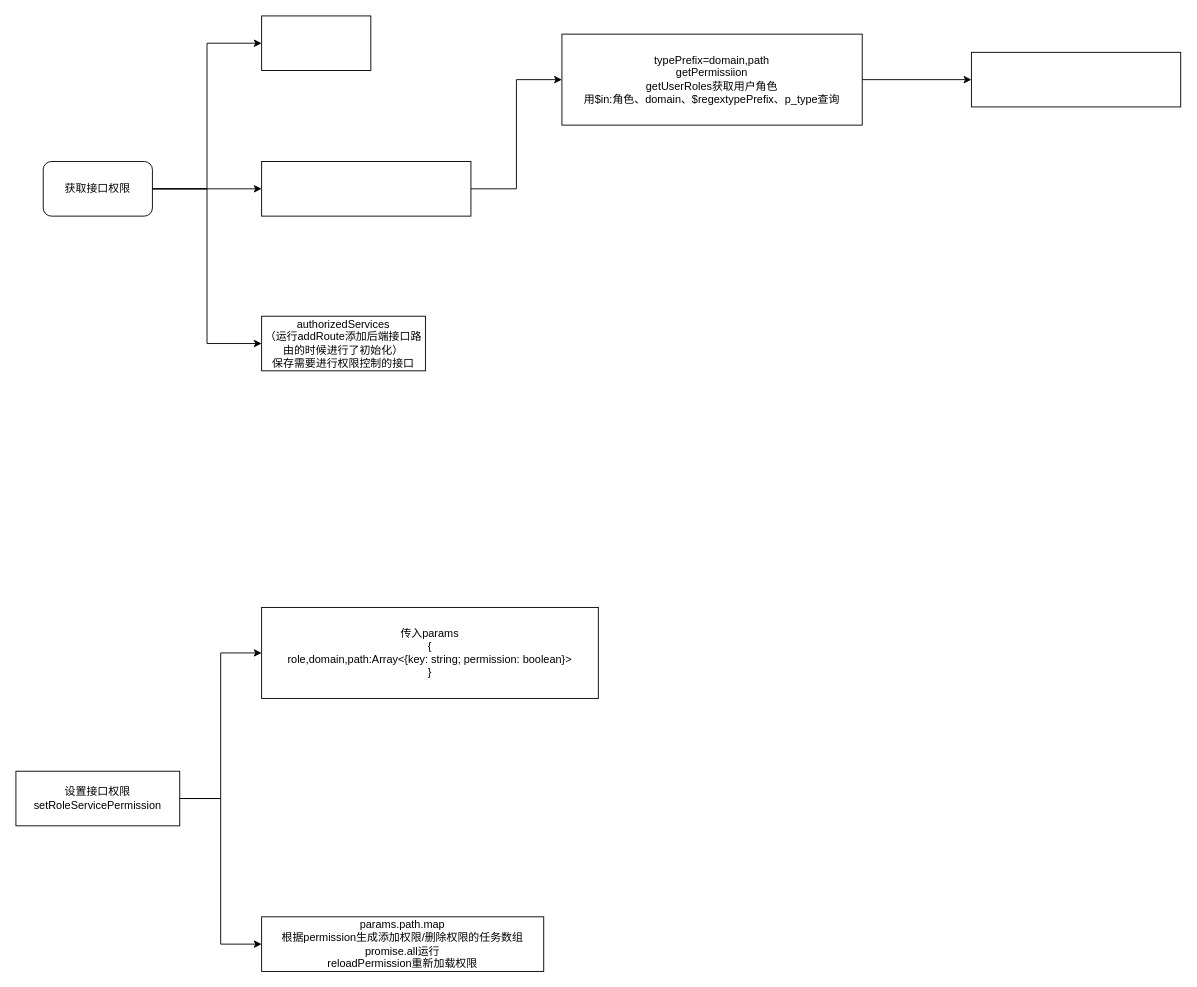
Image size: 1197x987. Some labels were removed from this diagram. The shapes that lost their labels are listed below. From the top down, each one's centre as x and y in pixels, then its label:
At pixel 316 43: "判断是否是root".
At pixel 1076 79: "getUserRole 用p_type: g,v0: user, v2: domain 返回查询结果的的v1".
At pixel 366 188: "TSRuleModel.getServicePermissions 设置typePrefix 查询用户对于角色权限并返回".
